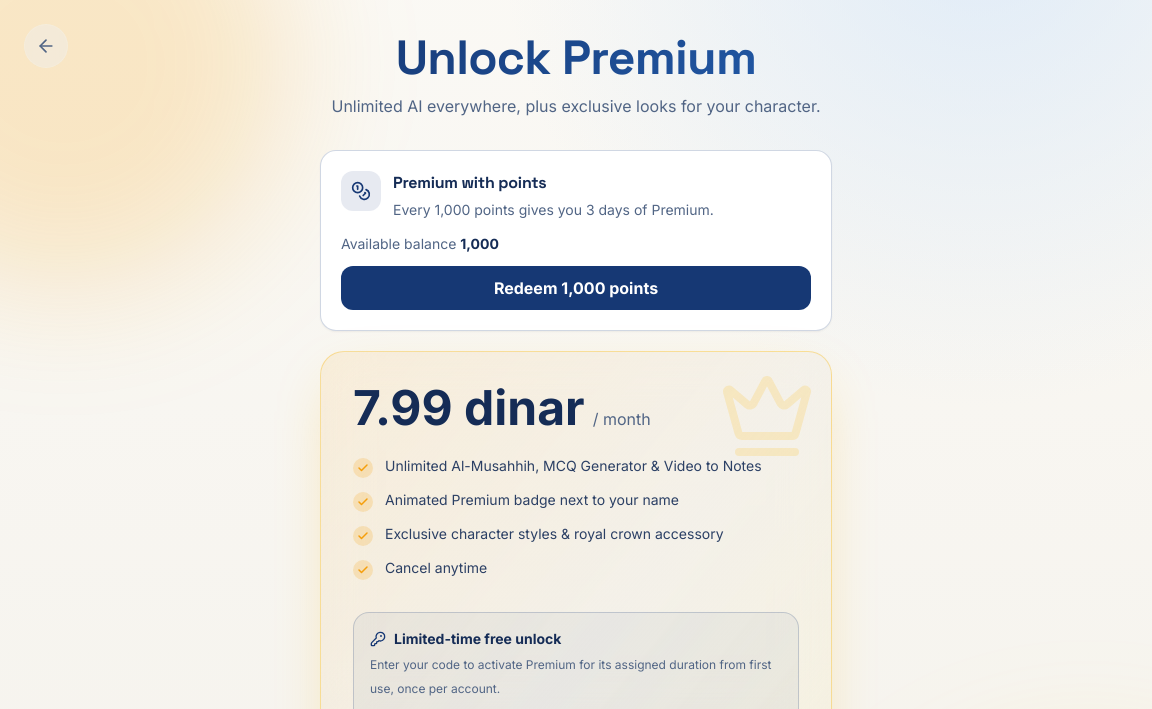
Test case: Premium activation › reuses the same request after an unconfirmed response and a page remount
Later steps or results of the test are not shown.
Expected: the text "1,000" is shown, 460,235 -> 499,252
Click the button "Redeem 1,000 points".
click(576, 288)  # box 341,266 -> 811,310
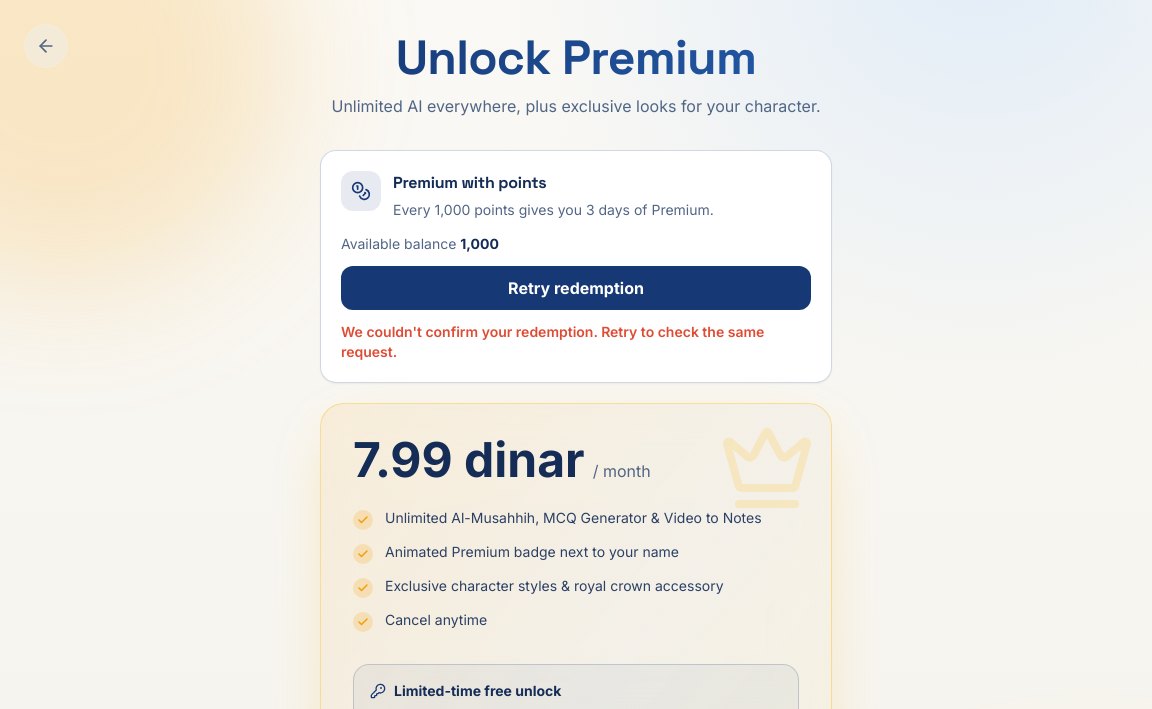
Result: the message shows "We couldn't confirm your redemption." at 341,323 -> 764,360
